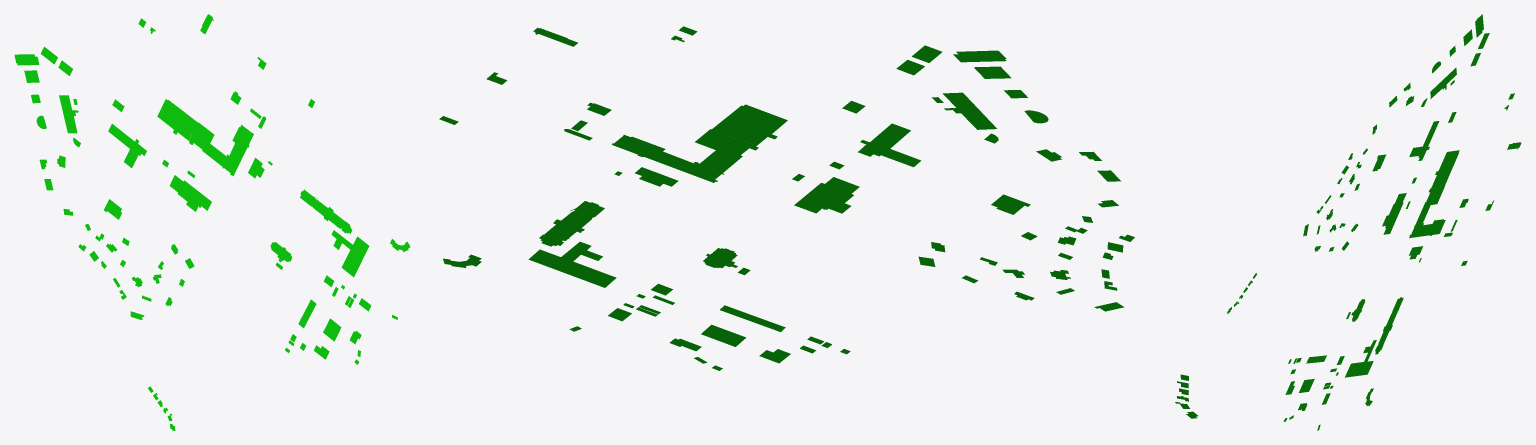
3 renders of one model, left to right at view 1: azimuth 30°, elevation 25°; view 2: azimuth 150°, elevation 25°; view 3: azimuth 270°, elevation 25°, orthographic. The views are drawn at different scales.
Parts seen in each view (by area): view 1: mesh; view 2: mesh; view 3: mesh.
Part boxes in pixels (left/top/right/bottom): mesh: left=14, top=14, right=410, bottom=430; mesh: left=439, top=26, right=1198, bottom=418; mesh: left=1227, top=14, right=1521, bottom=430.
Bounding box in the file's own units: 1035 × 827 × 757.
